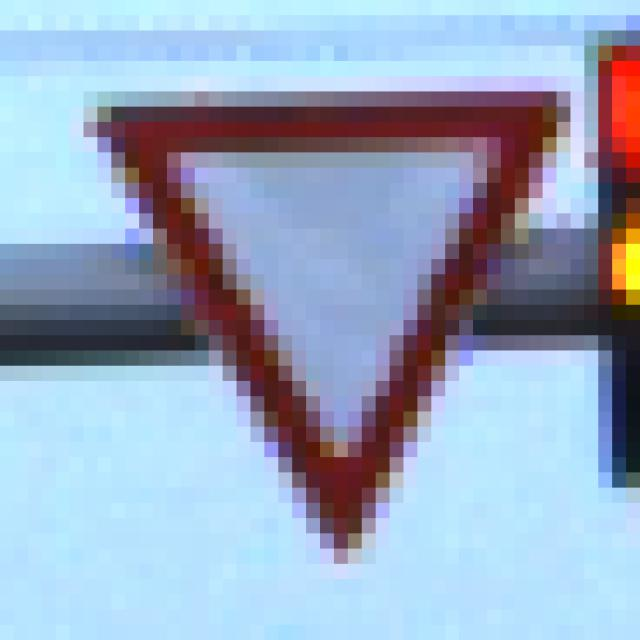Give Way: (85, 77, 572, 565)
